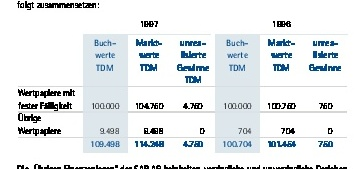table: (0, 0, 355, 169)
